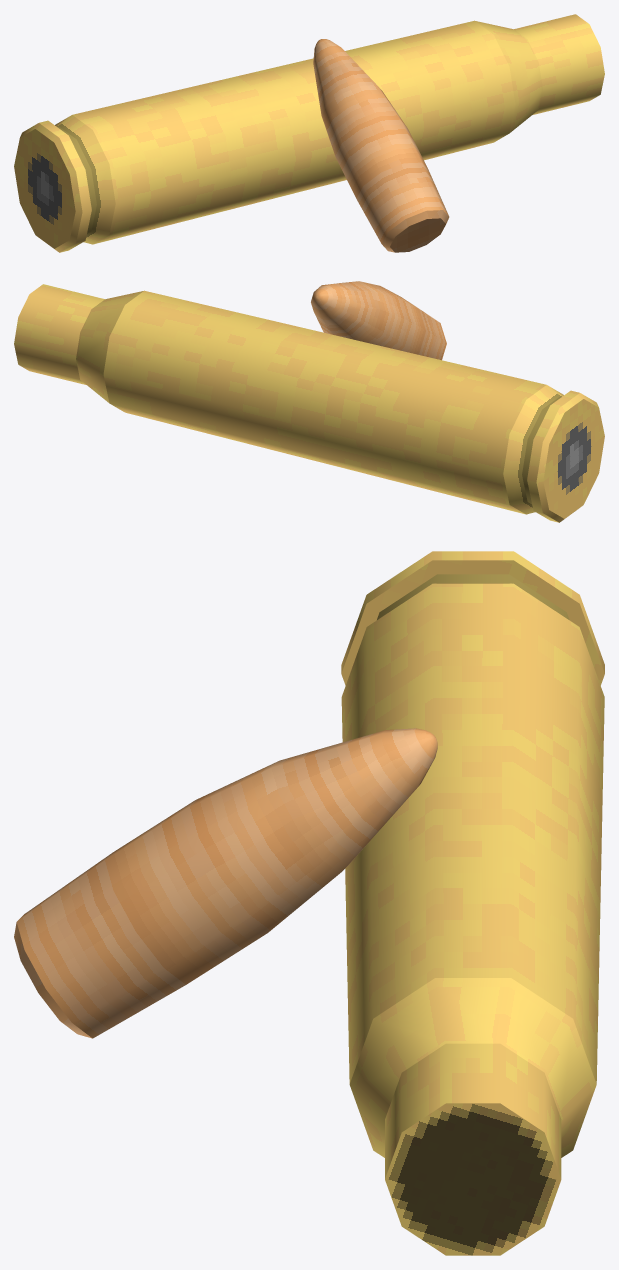
Rendered from ammomaker_PartsBottleneckS.fbx.
The picture shows the model from 3 angles, top to bottom: view 1: azimuth 30°, elevation 25°; view 2: azimuth 150°, elevation 25°; view 3: azimuth 270°, elevation 25°; orthographic projection. The views are drawn at different scales.
Parts seen in each view (by area): view 1: ammomaker_PartsBottleneckS; view 2: ammomaker_PartsBottleneckS; view 3: ammomaker_PartsBottleneckS.
Part boxes in pixels (box(x1,y1,x2,y2)): ammomaker_PartsBottleneckS: box(14, 14, 604, 252); ammomaker_PartsBottleneckS: box(14, 281, 604, 522); ammomaker_PartsBottleneckS: box(14, 551, 604, 1255).
Bounding box in the file's own units: 4.47 × 1.21 × 2.15.
